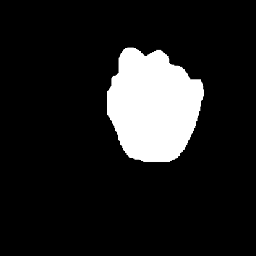mass: (110, 65, 187, 156)
